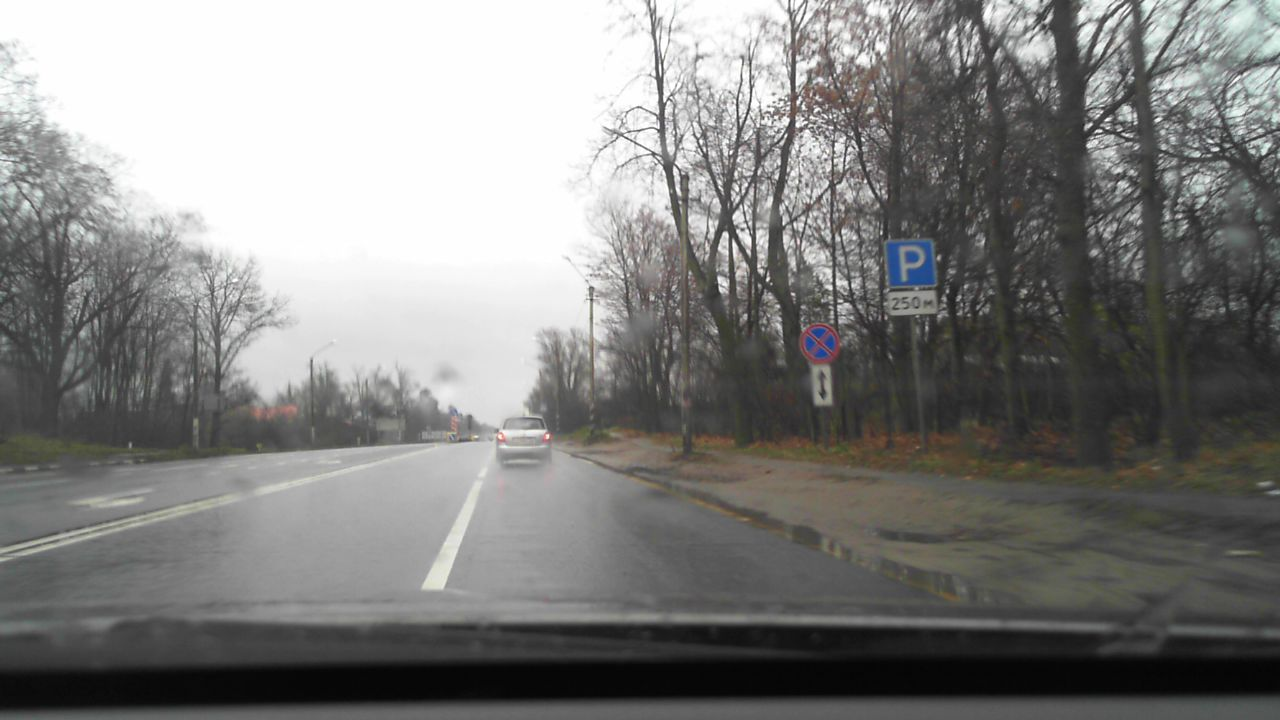No Parking: (799, 323, 840, 363)
